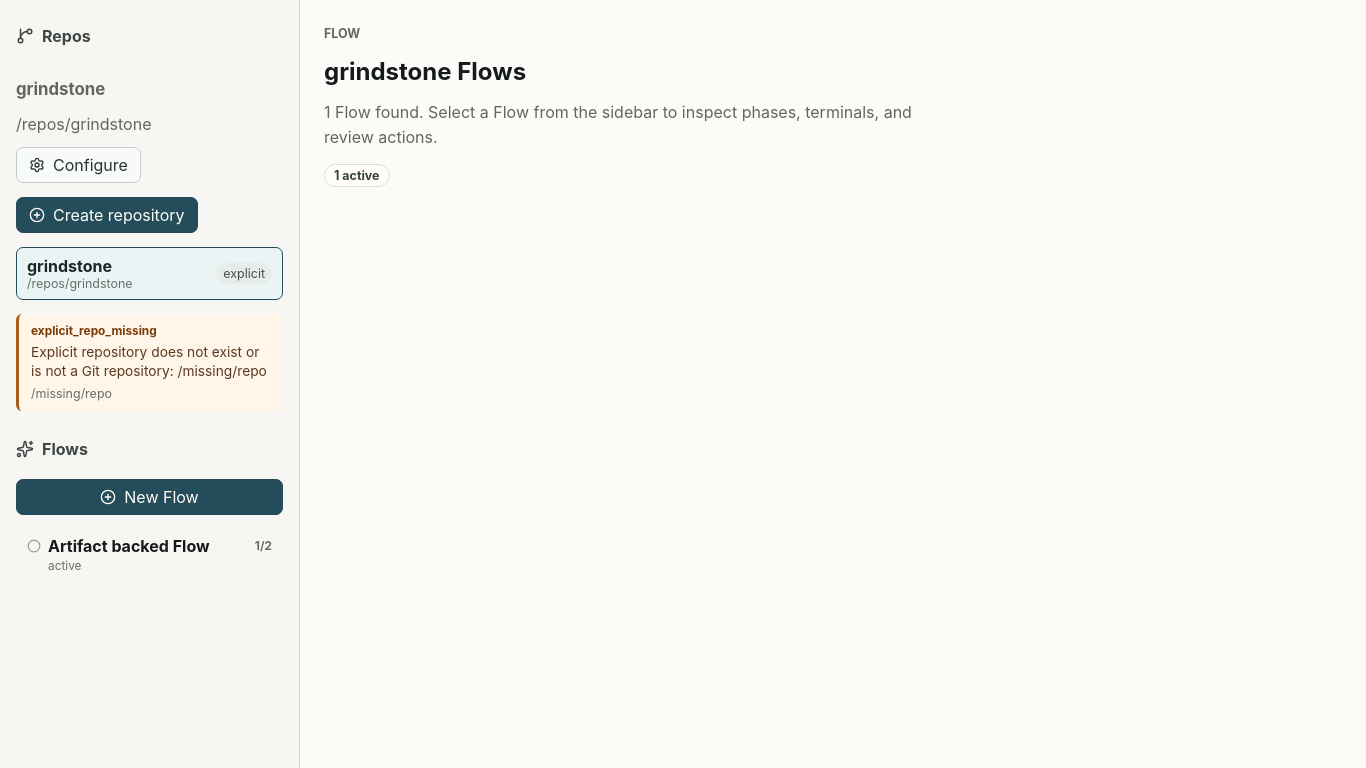
Test: App shell › applies plan responses only for the latest open request
Click the button "Artifact backed Flow 1/2 active" at (150, 555), box [16,527,283,582]
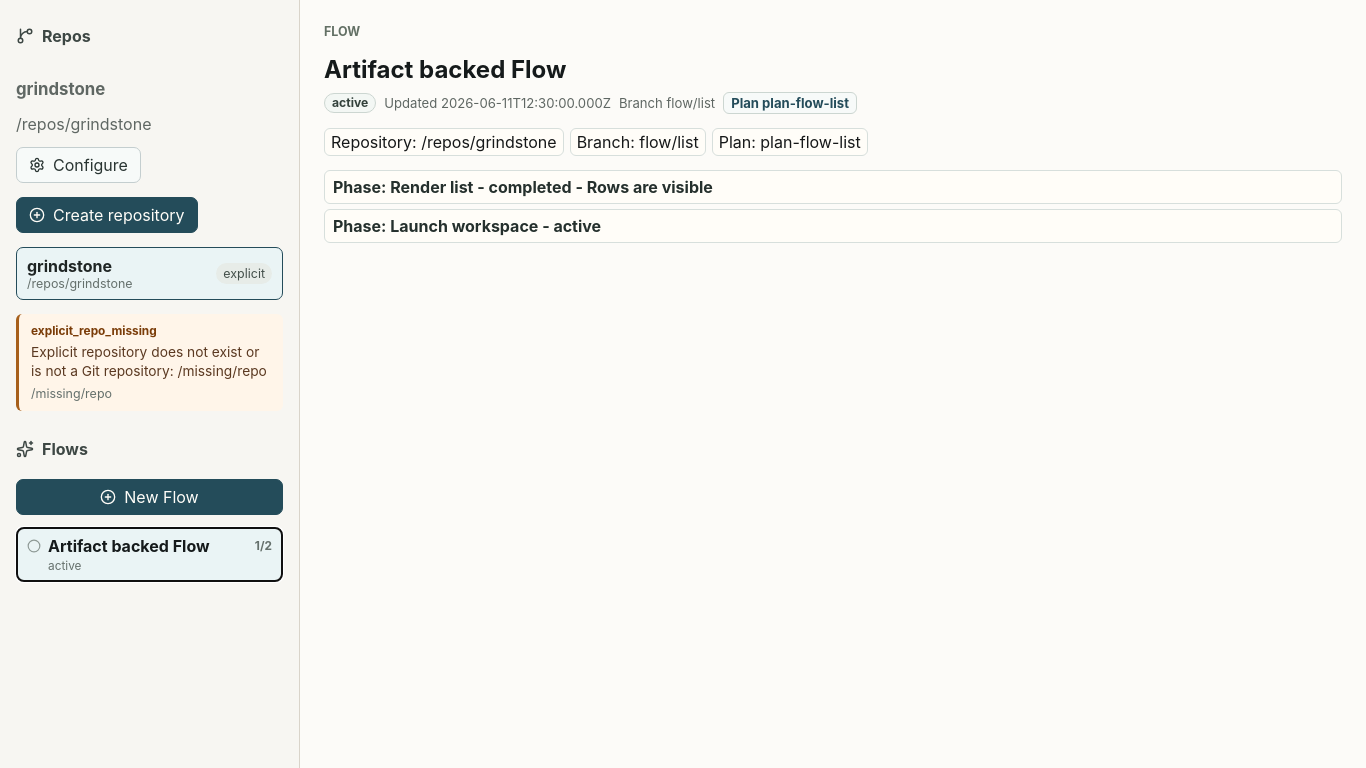
Click the button with aria-label "open plan plan-flow-list for artifact backed flow" at (790, 103), box [723,92,857,114]
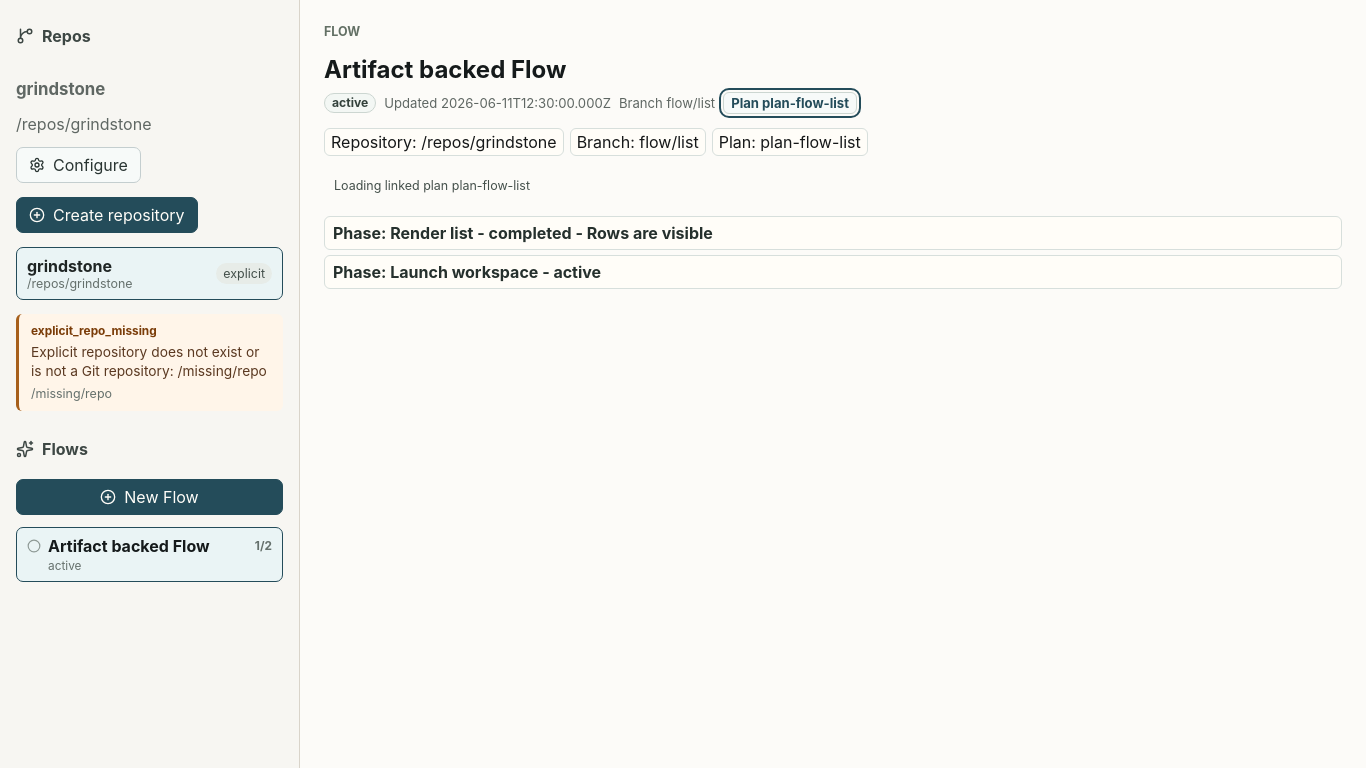
Expected: the message named "artifact backed flow linked plan" is shown, [334,178,530,193]
Click the button with aria-label "open plan plan-flow-list for artifact backed flow" at (790, 103), box [723,92,857,114]
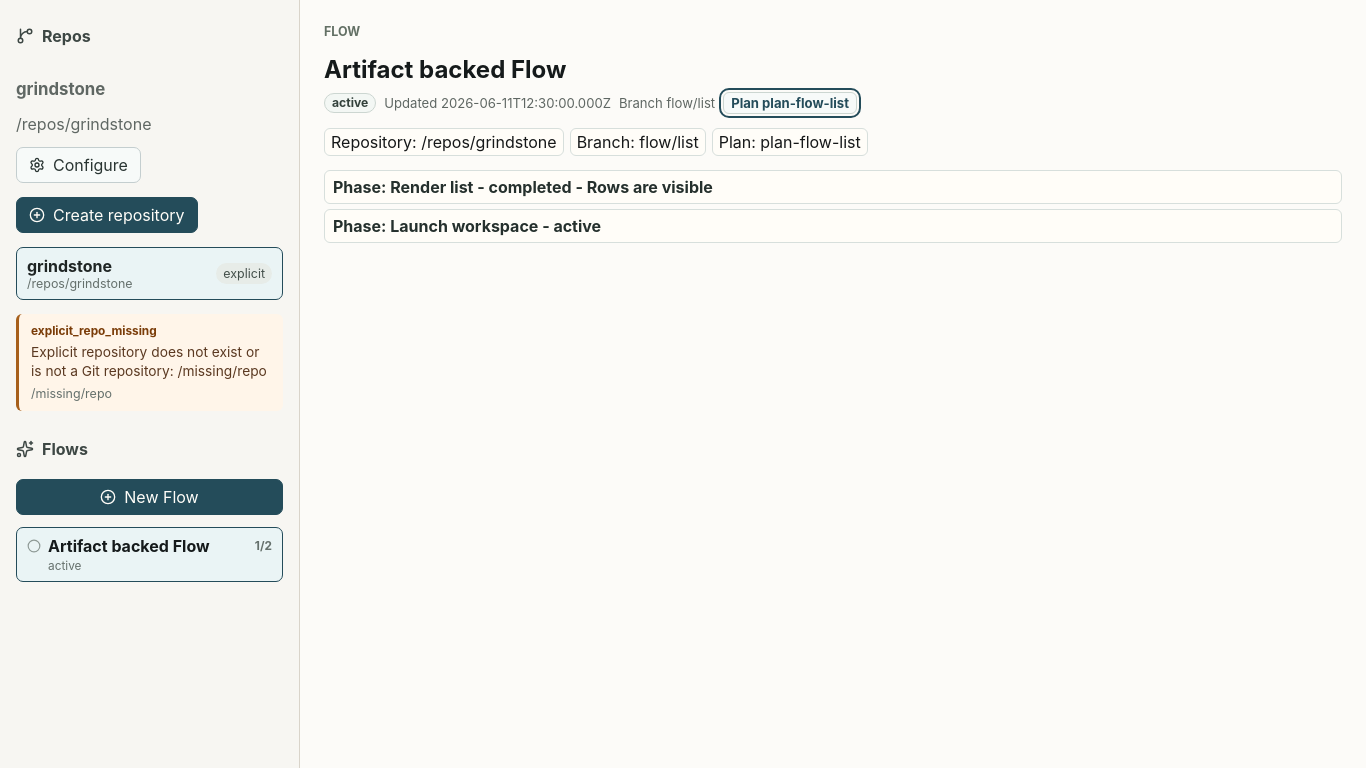
Expected: the text "linked plan" is gone
Click the button with aria-label "open plan plan-flow-list for artifact backed flow" at (790, 103), box [723,92,857,114]
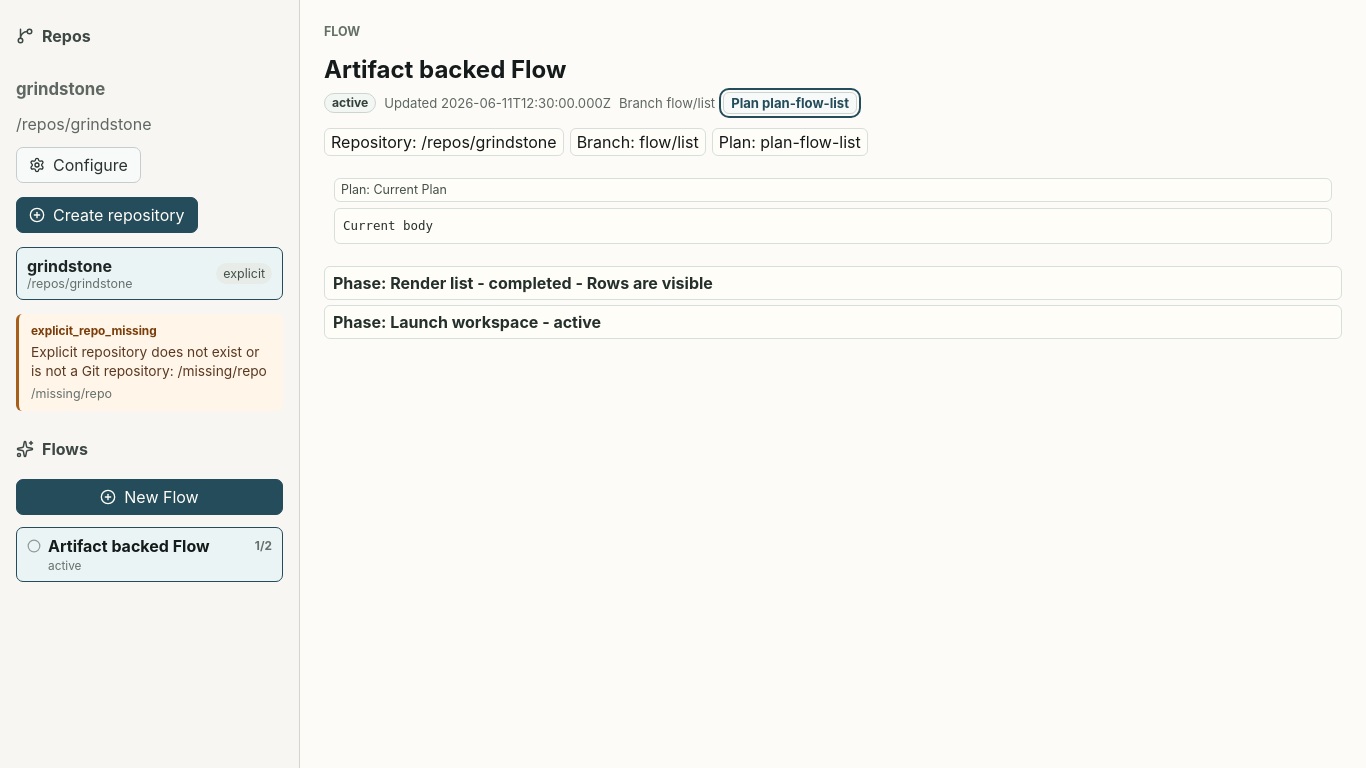
Expected: the element named "artifact backed flow linked plan" is shown, [324,170,1342,252]
Expected: the text "Current body" is shown, [334,208,1332,244]
